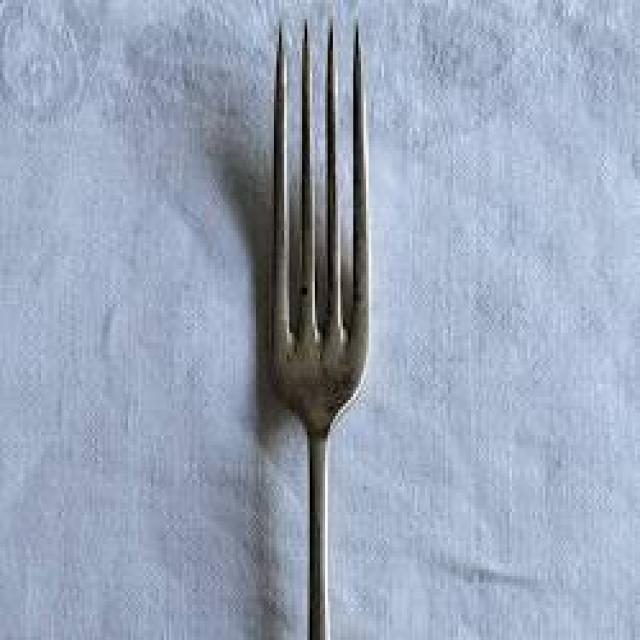alat_rumah_tangga: (204, 13, 457, 575)
